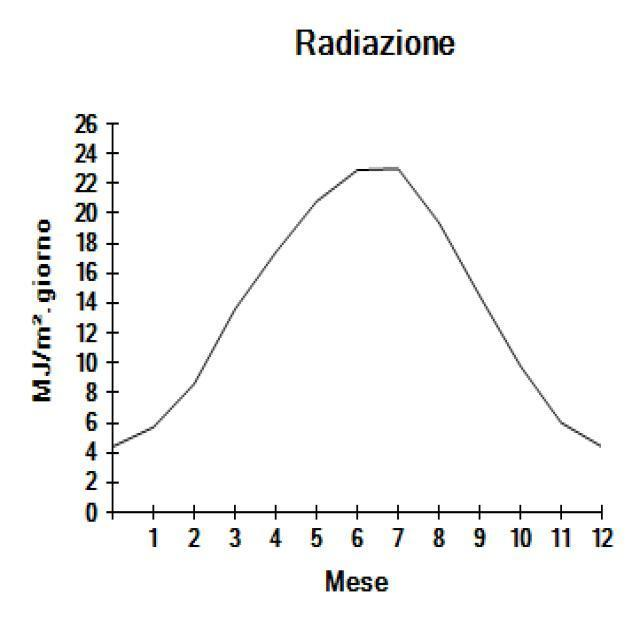axis: (105, 504, 615, 520), (105, 106, 123, 529)
line: (112, 166, 604, 453)
